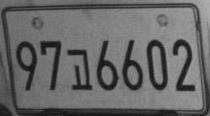0: (146, 38, 168, 91)
2: (171, 38, 196, 91)
6: (121, 39, 144, 91), (95, 41, 118, 91)
7: (39, 39, 61, 90)
9: (15, 39, 37, 91)
고: (66, 48, 92, 90)
